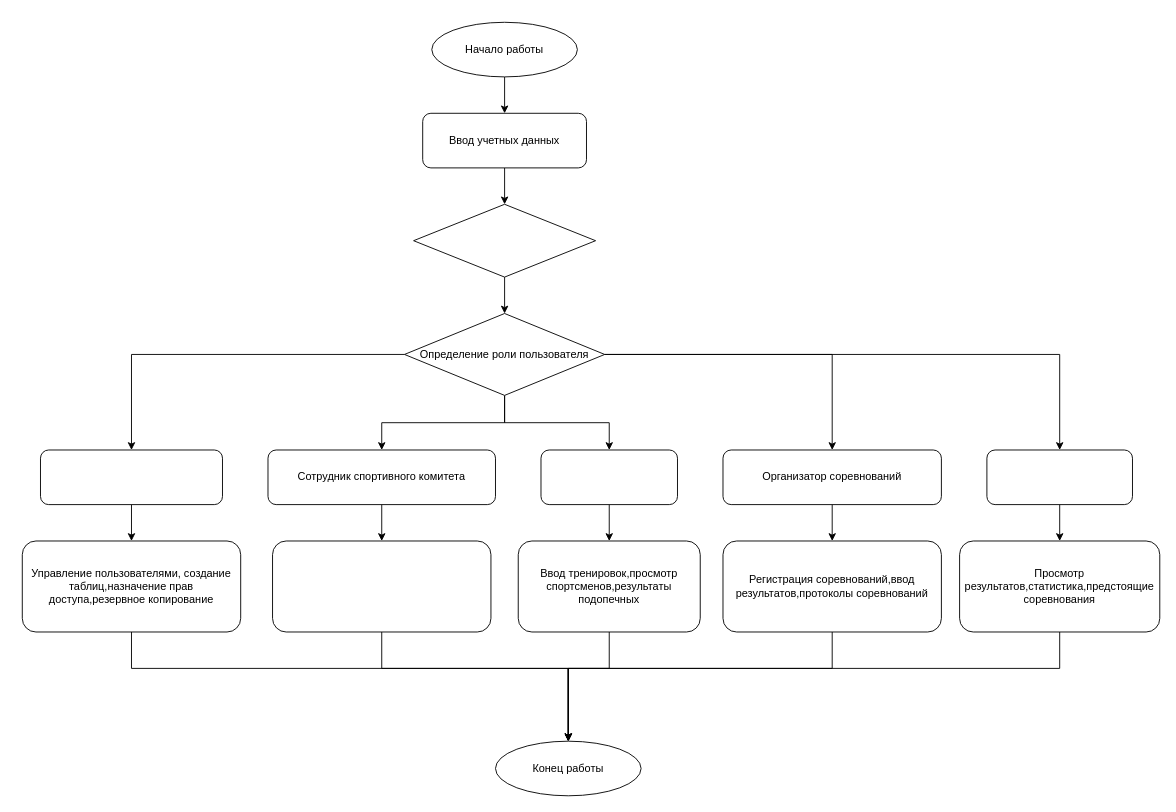
Image size: 1176x812. Some labels were removed from this diagram. The box of each missing label's shape, as (x1, y1, x2, y2) in pixels:
Администратор БД: (40, 449, 222, 505)
Проверка правильности ввода: (413, 203, 596, 277)
Регистрация сооружений, клубов, статистика, утверждение календаря: (272, 540, 491, 632)
Спортсмен: (986, 449, 1132, 505)
Тренер: (540, 449, 677, 505)
